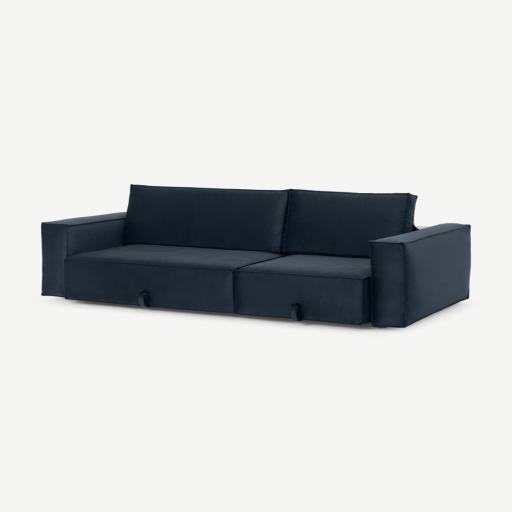back_cushion: (123, 185, 412, 257)
left_arm: (370, 224, 470, 326)
right_arm: (42, 213, 125, 296)
seat_cushion: (64, 245, 372, 324)
two-seater: (0, 0, 511, 512)
